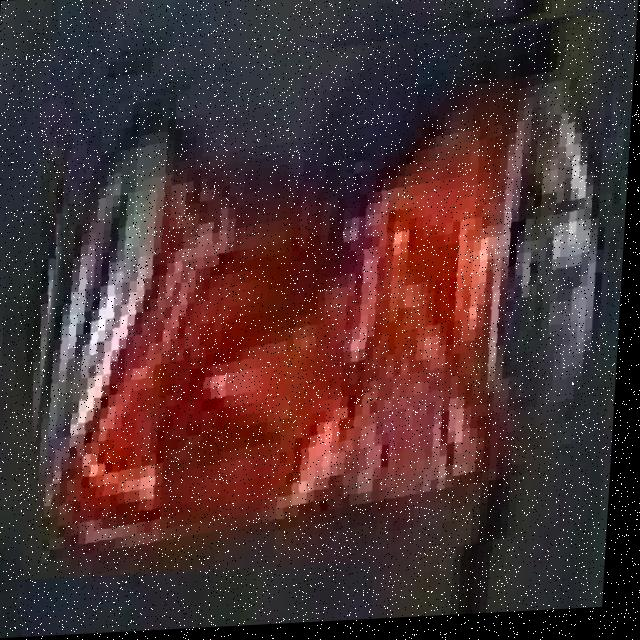can: (25, 15, 612, 580)
